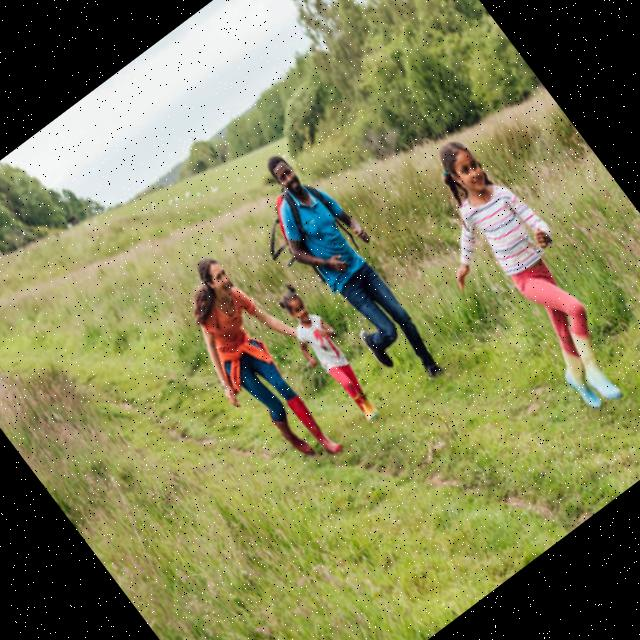Person: (385, 122, 640, 434), (239, 140, 460, 402), (153, 241, 370, 486), (268, 283, 395, 432)
